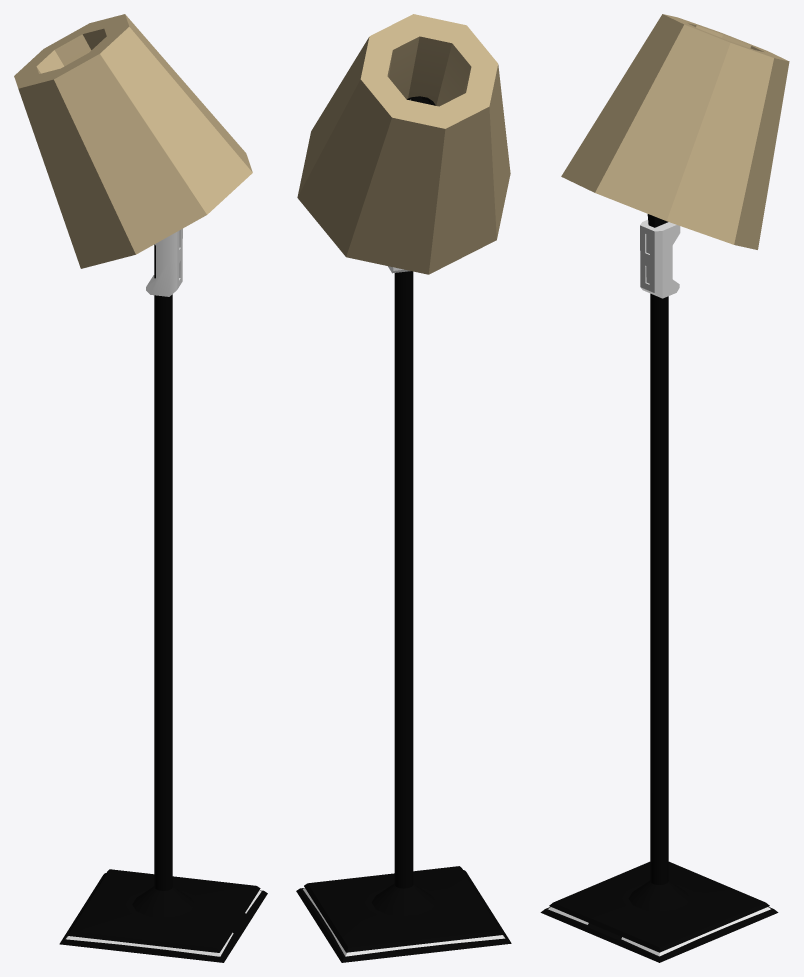
The model's file is micro_1.fbx.
3 views of the same model, side by side, from view 1: azimuth 30°, elevation 25°; view 2: azimuth 150°, elevation 25°; view 3: azimuth 270°, elevation 25° (orthographic). The views are drawn at different scales.
Parts seen in each view (by area): view 1: Cover, Microphone; view 2: Cover, Microphone; view 3: Cover, Microphone.
Boxes of the visible parts, box(x1,y1,x2,y2) form: Cover: box(14, 14, 252, 268); Microphone: box(59, 228, 267, 962); Cover: box(297, 14, 510, 274); Microphone: box(296, 96, 511, 962); Cover: box(561, 14, 789, 249); Microphone: box(540, 214, 778, 962).
Size of the model in its own units: 57.1 by 222 by 57.1.
